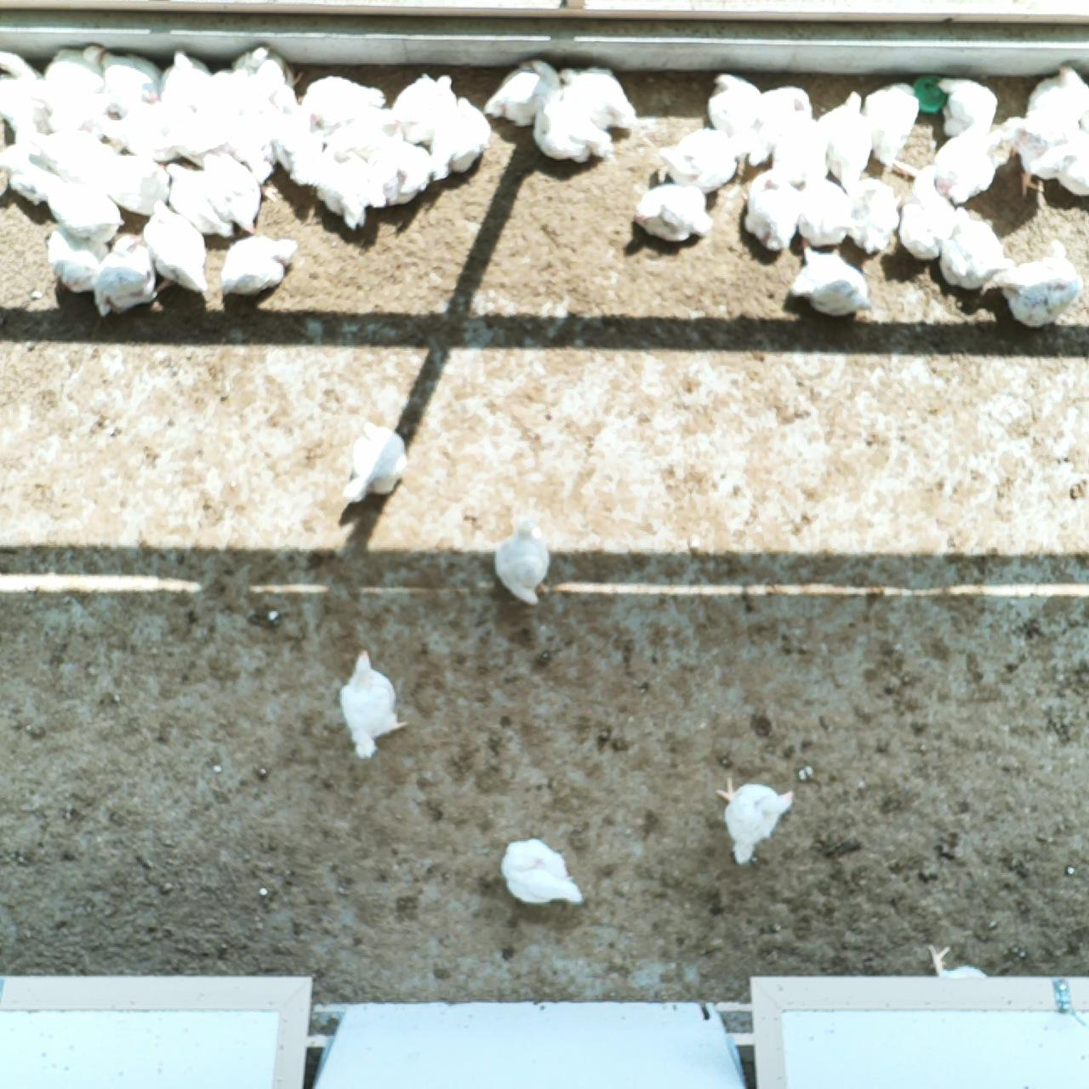chicken: (337, 648, 411, 760), (715, 773, 801, 867), (999, 113, 1089, 201), (997, 236, 1081, 329), (310, 137, 386, 232), (138, 199, 213, 294), (219, 100, 289, 200), (930, 121, 1011, 203), (527, 88, 616, 162), (816, 88, 881, 188), (792, 241, 875, 319), (938, 204, 1014, 289), (38, 43, 103, 142), (159, 156, 236, 238), (82, 145, 170, 216), (90, 230, 161, 317), (498, 835, 585, 905), (341, 418, 410, 506), (556, 64, 644, 133), (491, 513, 556, 606), (84, 101, 178, 165), (1008, 61, 1089, 134), (192, 147, 261, 231), (897, 167, 955, 266), (857, 78, 921, 167), (655, 129, 748, 190), (747, 86, 816, 167), (218, 233, 301, 299), (483, 58, 562, 127), (392, 68, 462, 145), (631, 181, 716, 244), (739, 168, 802, 252), (40, 182, 128, 241), (432, 90, 489, 181), (295, 74, 387, 130), (364, 139, 435, 211), (0, 46, 47, 149), (149, 115, 238, 169), (271, 107, 328, 190), (30, 129, 114, 185), (45, 221, 109, 294), (930, 74, 998, 141), (796, 175, 855, 252), (766, 117, 834, 180), (706, 70, 764, 143), (158, 50, 215, 124), (0, 136, 59, 207), (849, 175, 900, 255), (324, 109, 402, 161), (97, 47, 164, 106), (229, 43, 301, 96), (198, 69, 269, 120), (928, 945, 995, 988)
